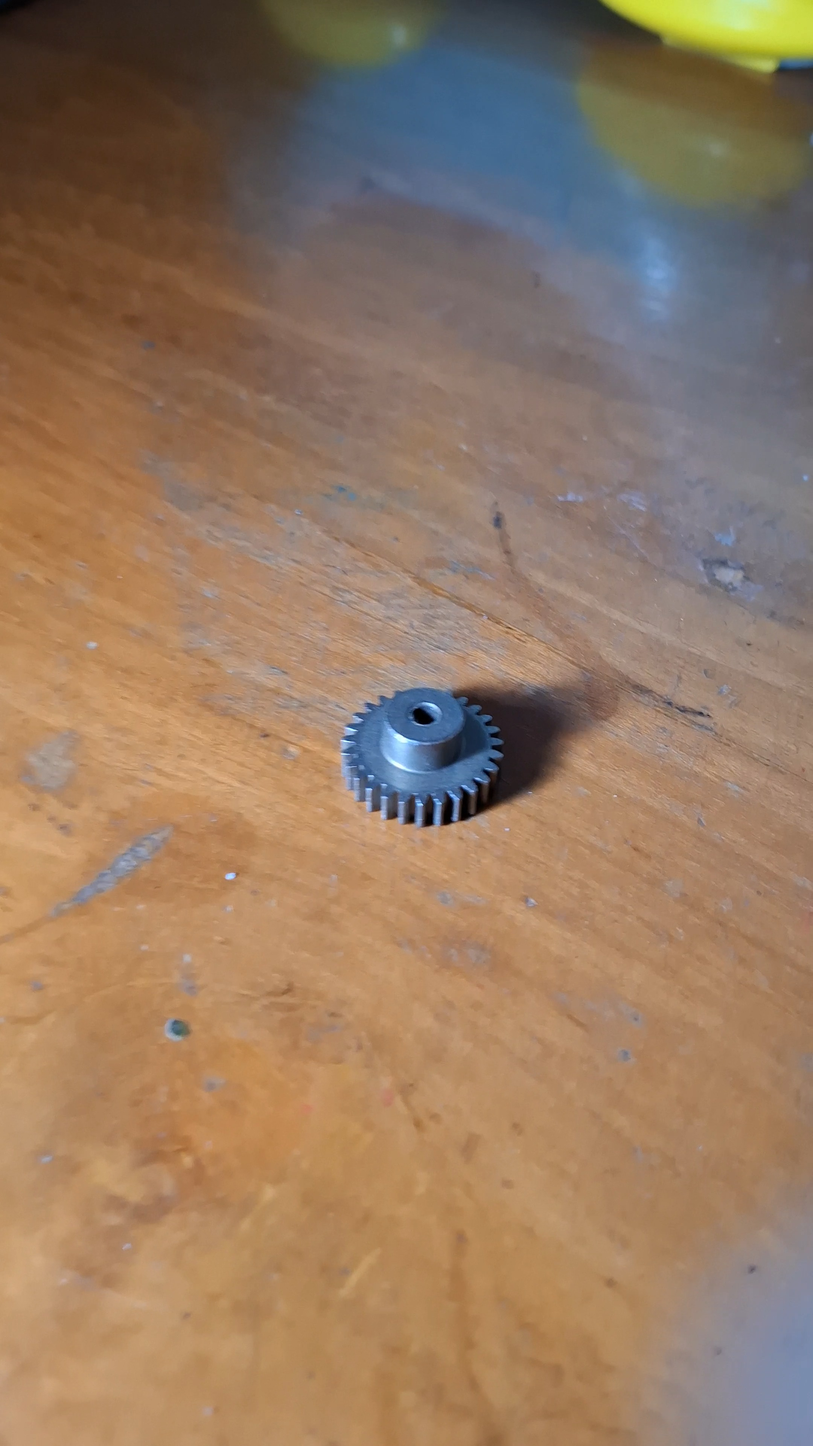spur gear: (341, 688, 502, 826)
